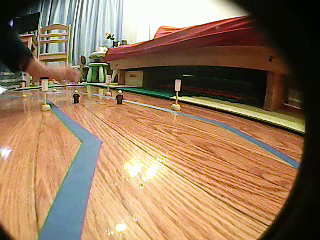Person: (116, 89, 125, 106), (72, 89, 80, 105)
